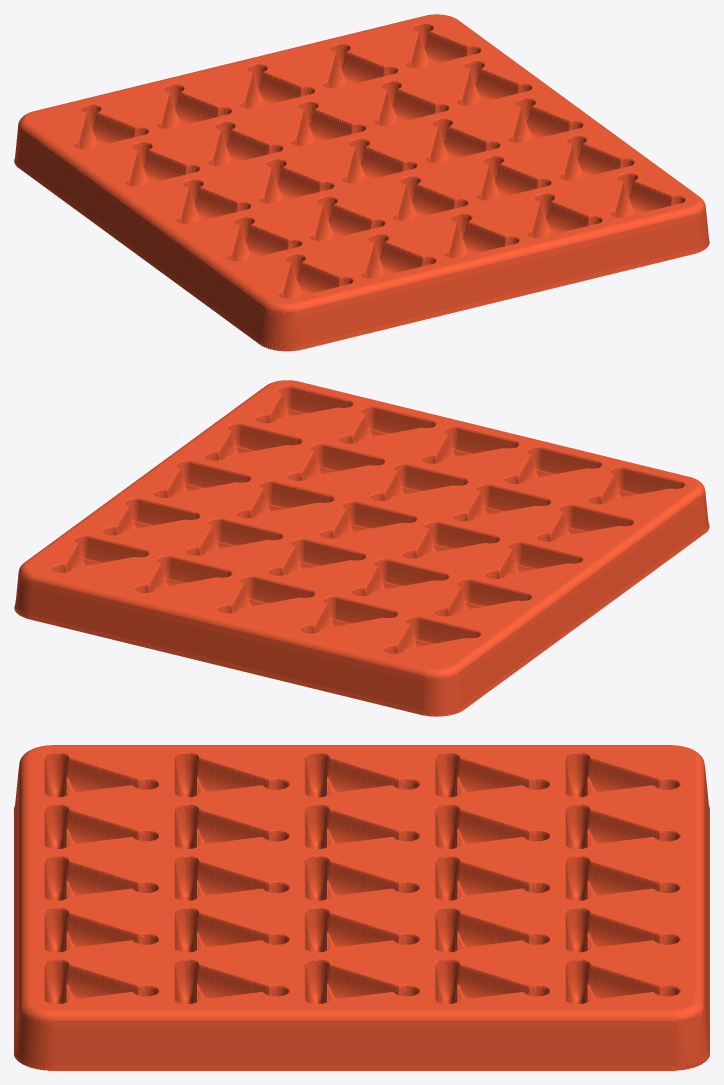
File: mold.glb
The picture shows the model from 3 angles, top to bottom: view 1: azimuth 30°, elevation 25°; view 2: azimuth 150°, elevation 25°; view 3: azimuth 270°, elevation 25°; orthographic projection. The views are drawn at different scales.
Visible parts, largest first — view 1: geometry_0; view 2: geometry_0; view 3: geometry_0.
Boxes of the visible parts, x1=… form: geometry_0: x1=14, y1=14, x2=709, y2=351; geometry_0: x1=14, y1=380, x2=709, y2=716; geometry_0: x1=14, y1=745, x2=709, y2=1070.
Bounding box in the file's own units: 0.1493 × 0.0136 × 0.1584.
